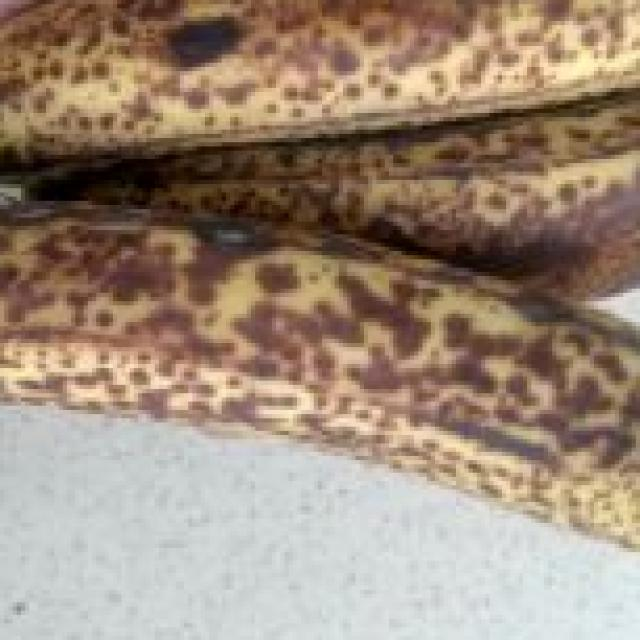Bad_Banana-0 day: (0, 0, 640, 540)
